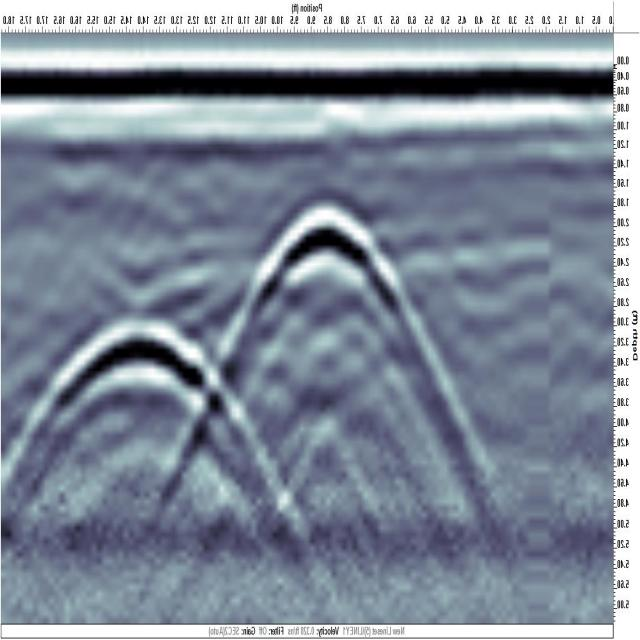hyperbola: (18, 302, 237, 480), (219, 184, 429, 352)
